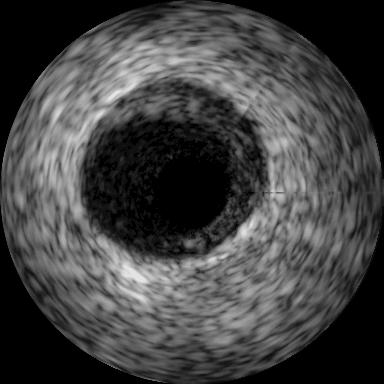Lumen: (152, 150, 237, 235)
